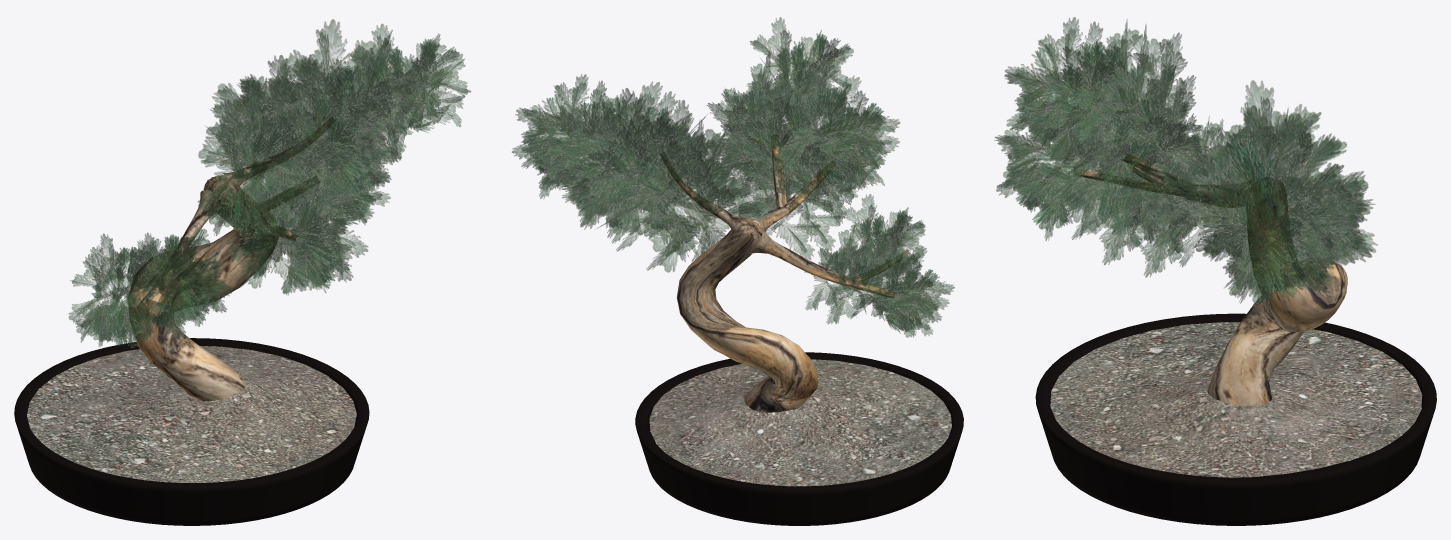
The model's file is bonsai-tree.glb.
3 views of the same model, side by side, from view 1: azimuth 30°, elevation 25°; view 2: azimuth 150°, elevation 25°; view 3: azimuth 270°, elevation 25° (orthographic). The views are drawn at different scales.
Parts seen in each view (by area): view 1: leaves_Plane.417, soil_Circle, base_Cylinder.001, bark_Cylinder; view 2: leaves_Plane.417, soil_Circle, base_Cylinder.001, bark_Cylinder; view 3: leaves_Plane.417, soil_Circle, base_Cylinder.001, bark_Cylinder.
Boxes of the visible parts, box(x1,y1,x2,y2) form: leaves_Plane.417: box(68, 19, 471, 351); soil_Circle: box(27, 346, 356, 482); base_Cylinder.001: box(14, 338, 369, 525); bark_Cylinder: box(128, 120, 333, 401); leaves_Plane.417: box(512, 17, 954, 337); soil_Circle: box(649, 359, 951, 486); base_Cylinder.001: box(635, 352, 963, 525); bark_Cylinder: box(661, 134, 909, 412); leaves_Plane.417: box(994, 17, 1377, 304); soil_Circle: box(1050, 322, 1422, 477); base_Cylinder.001: box(1035, 313, 1436, 525); bark_Cylinder: box(1073, 154, 1347, 406).
Bounding box in the file's own units: 0.1 × 0.0867 × 0.0765.
Materials: 4 (3 with a texture image).
